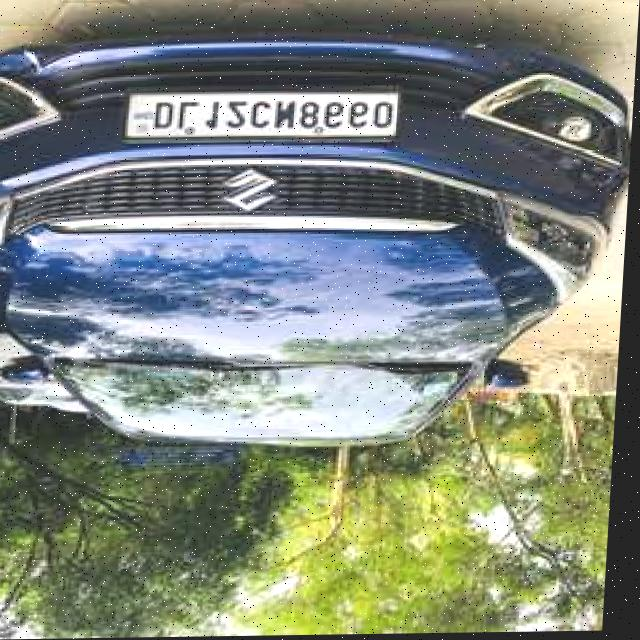plate: (128, 90, 402, 142)
